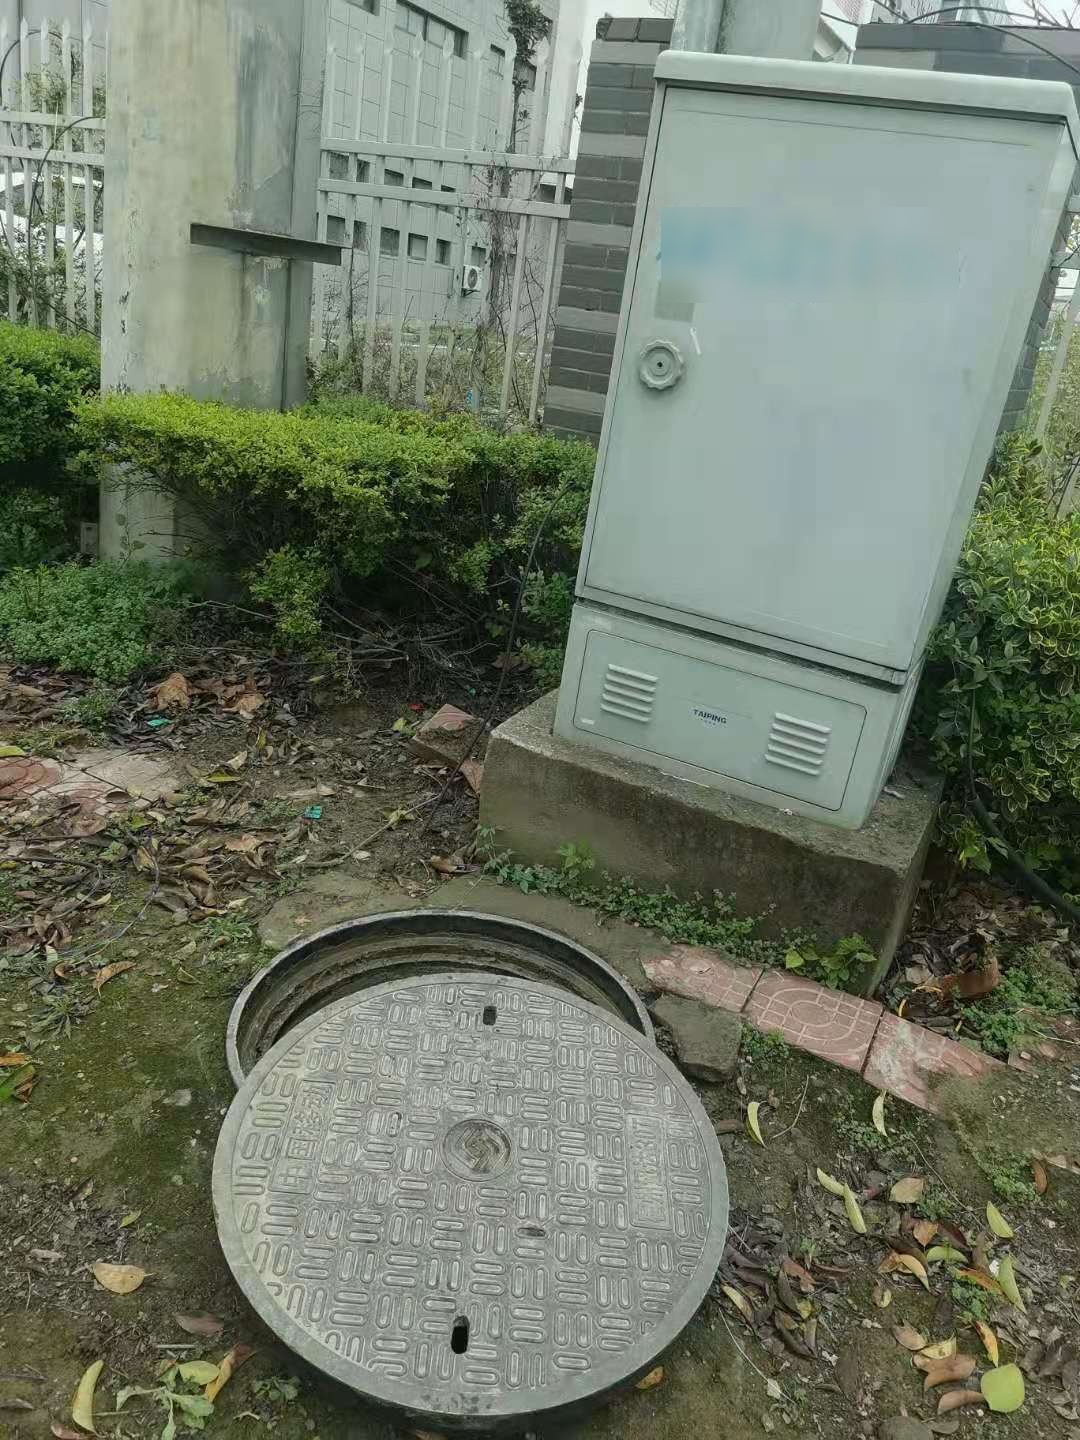uncovered: (214, 912, 729, 1428)
